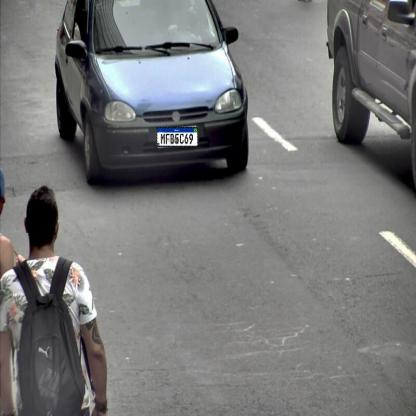PlacaM: (157, 127, 198, 147)
